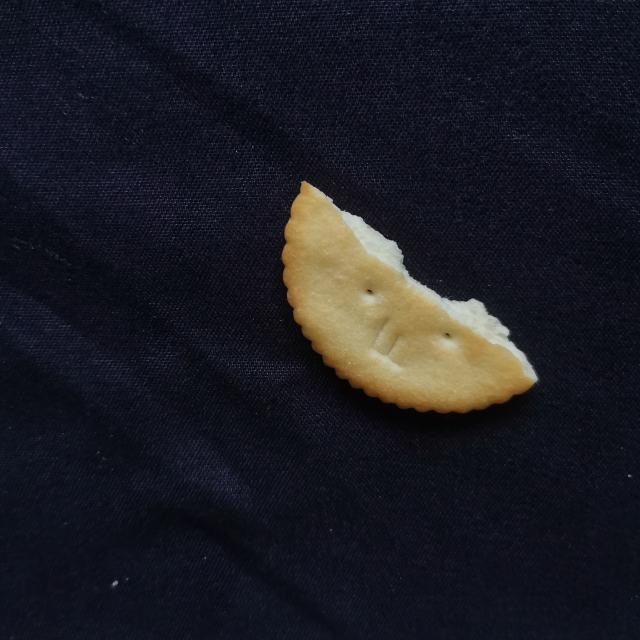Broken: (280, 179, 539, 415)
